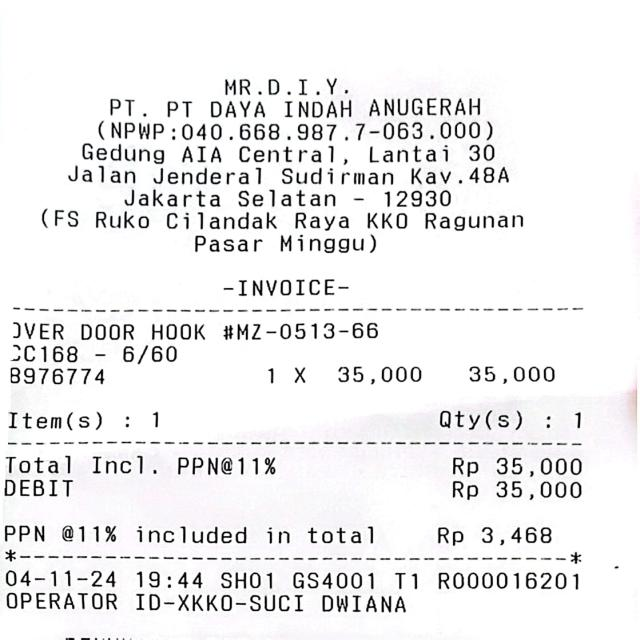date: (1, 560, 206, 596)
store: (225, 70, 346, 100)
total: (1, 450, 596, 478)
